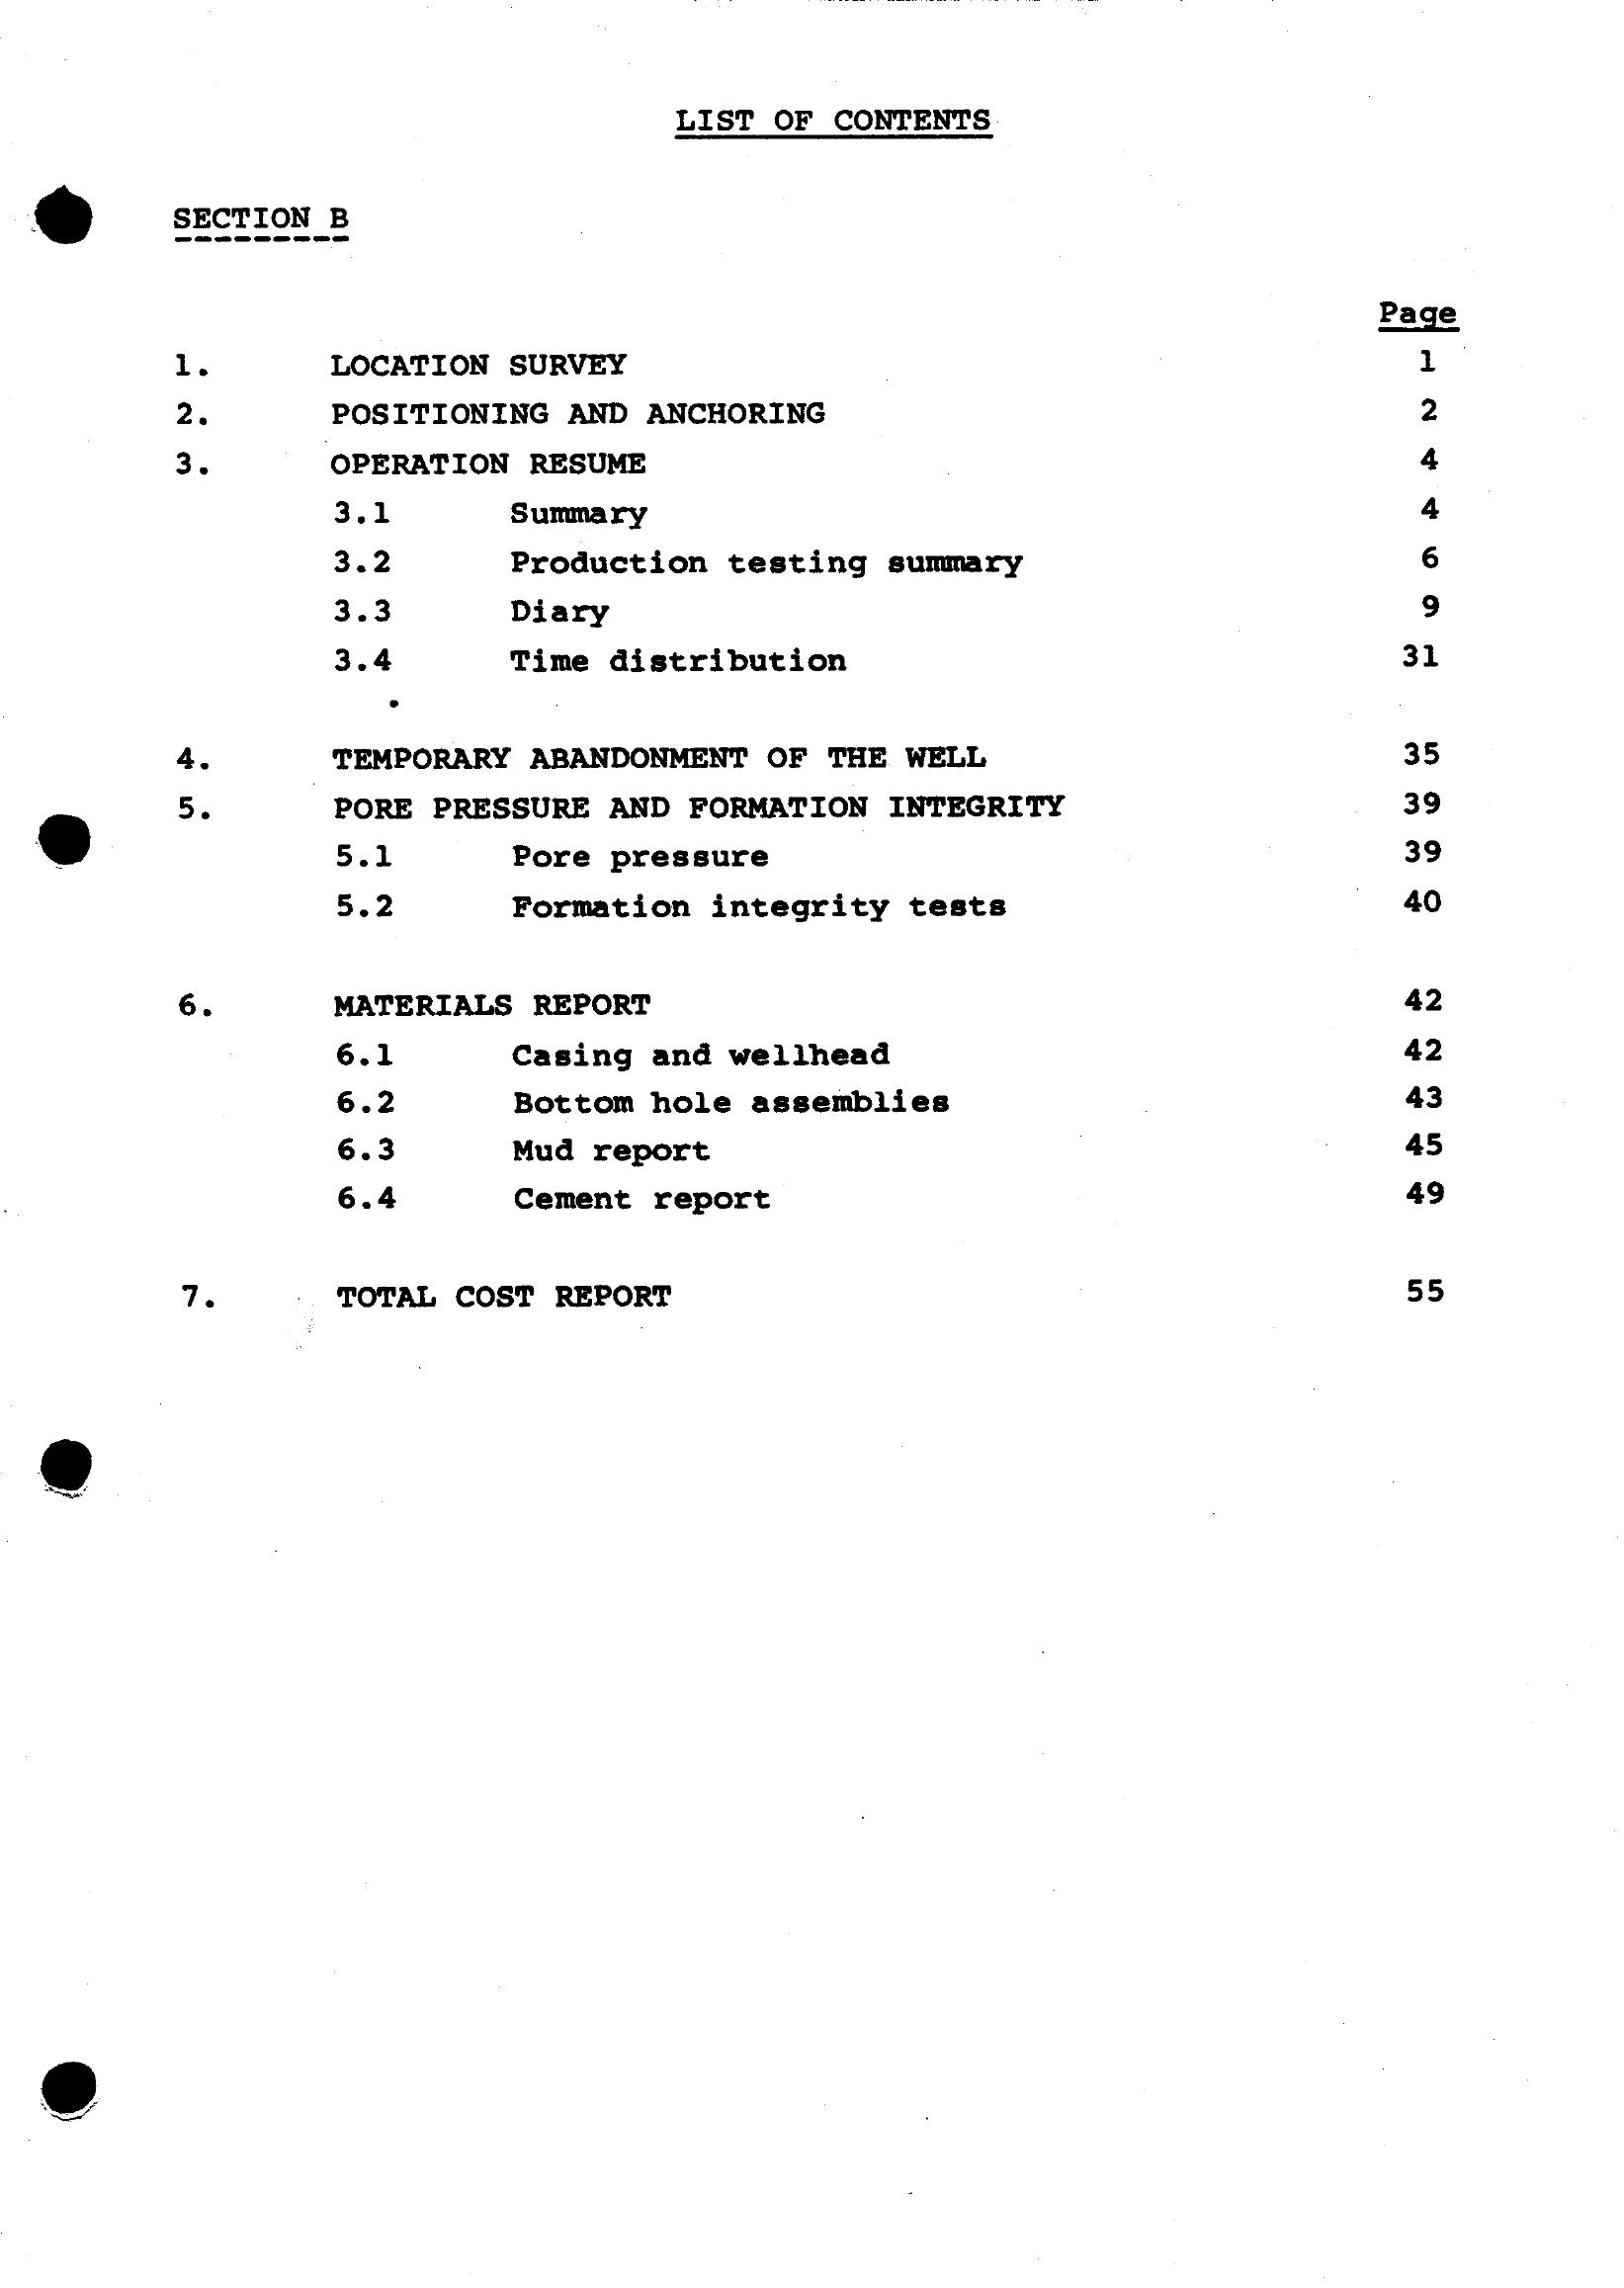text: (128, 65, 1554, 1430)
